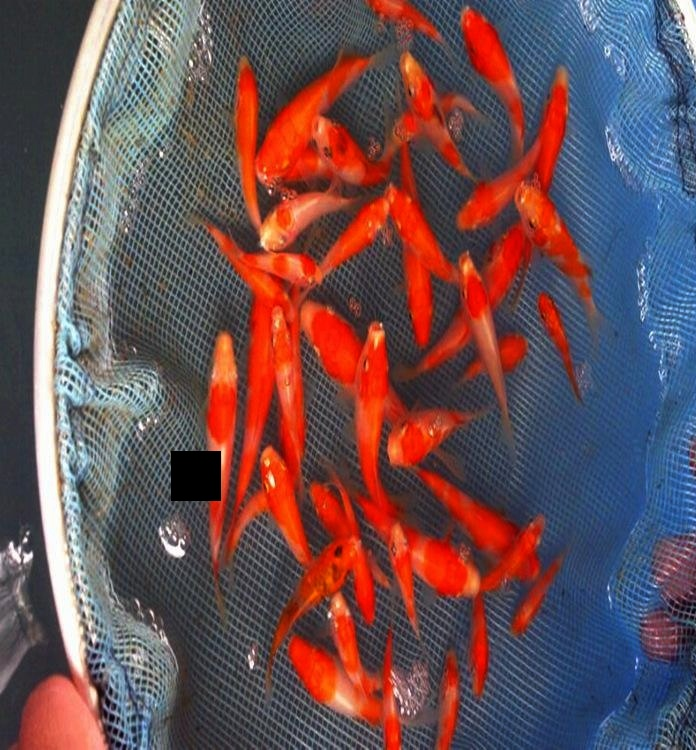fry: (250, 65, 347, 192), (388, 157, 447, 353), (292, 634, 394, 745), (195, 321, 242, 556), (458, 9, 536, 127), (299, 295, 375, 412), (311, 90, 393, 197), (206, 234, 301, 324), (307, 469, 375, 587), (350, 316, 401, 472), (517, 177, 594, 280), (431, 486, 531, 565), (387, 401, 486, 475), (244, 182, 348, 252), (386, 178, 454, 283), (238, 299, 275, 490), (457, 244, 504, 393), (280, 541, 359, 629), (272, 318, 317, 472), (259, 446, 313, 572), (408, 531, 491, 609), (316, 195, 388, 279), (222, 48, 265, 188), (378, 499, 426, 623), (451, 161, 520, 241), (318, 595, 381, 680), (482, 217, 537, 304), (538, 57, 575, 182), (395, 46, 445, 137), (466, 598, 509, 702), (432, 639, 471, 750), (465, 326, 533, 388), (534, 288, 577, 377), (251, 238, 329, 287), (363, 3, 447, 45), (507, 500, 550, 579), (517, 575, 554, 642)
